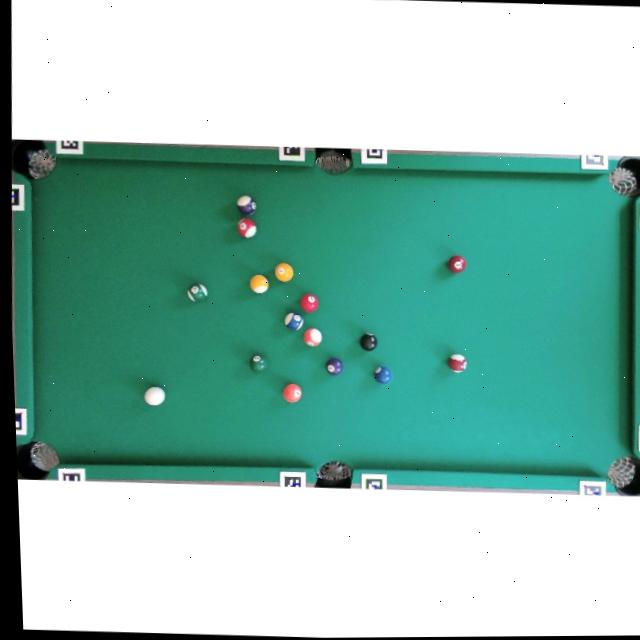cue ball: (143, 386, 165, 406)
other: (273, 261, 294, 282), (186, 282, 208, 302), (236, 195, 257, 215), (282, 382, 302, 403), (248, 274, 269, 294), (446, 353, 467, 372), (447, 254, 467, 273), (237, 218, 256, 238), (302, 327, 322, 346), (299, 293, 319, 312), (373, 365, 392, 384), (284, 311, 303, 330), (358, 332, 377, 350), (249, 354, 267, 372), (325, 357, 343, 375)
